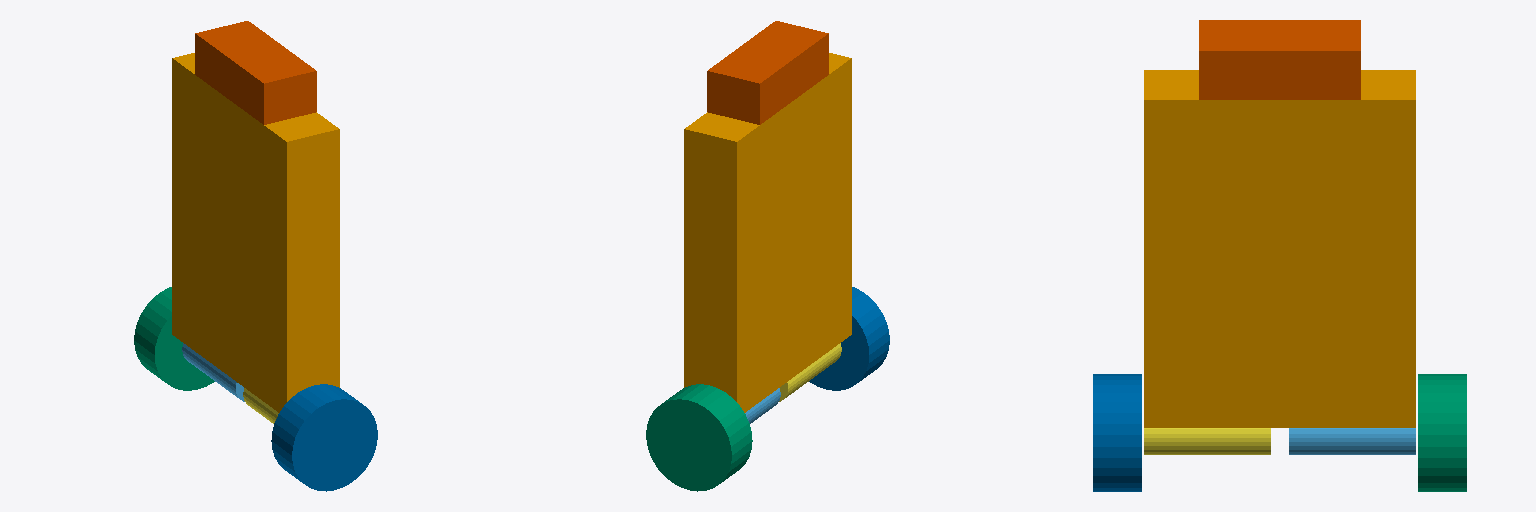
robot.urdf — balancing:
<?xml version="1.0" ?>
<!-- =================================================================================== -->
<!-- |    This document was autogenerated by xacro from robot_new.xacro                | -->
<!-- |    EDITING THIS FILE BY HAND IS NOT RECOMMENDED                                 | -->
<!-- =================================================================================== -->
<robot name="balancing">
  <link name="base_link">
    <inertial>
      <mass value="0.2"/>
      <origin xyz="0 0 0"/>
      <inertia ixx="0.0010416666666666667" ixy="0.0" ixz="0.0" iyy="0.0006933333333333335" iyz="0.0" izz="0.0004016666666666667"/>
    </inertial>
    <visual>
      <origin xyz="0 0 0"/>
      <geometry>
        <box size="0.04 0.15 0.2"/>
      </geometry>
    </visual>
	<collision>
      <origin xyz="0 0 0"/>
      <geometry>
        <box size="0.04 0.15 0.2"/>
		</geometry> 
	</collision>
  </link>
  <gazebo reference="base_link">
    <mu1>0.3</mu1>
    <mu2>0.3</mu2>
    <kp>10000</kp>
    <kd>10000</kd>
    <material>Gazebo/White</material>
  </gazebo>
  <joint name="motor_dx_joint" type="fixed">
    <origin rpy="0 0 0" xyz="0 0.04 -0.1125"/>
    <parent link="base_link"/>
    <child link="motor_dx_link"/>
  </joint>
  <link name="motor_dx_link">
    <inertial>
      <mass value="0.1"/>
      <origin rpy="1.57075 0 0" xyz="0 0 0"/>
      <inertia ixx="4.604166666666667e-05" ixy="0.0" ixz="0.0" iyy="4.604166666666667e-05" iyz="0.0" izz="7.812500000000002e-06"/>
    </inertial>
    <visual>
      <origin rpy="1.57075 0 0" xyz="0 0 0"/>
      <geometry>
        <cylinder length="0.07" radius="0.0125"/>
      </geometry>
    </visual>
    <collision>
      <origin rpy="1.57075 0 0" xyz="0 0 0"/>
      <geometry>
        <cylinder length="0.07" radius="0.0125"/>
      </geometry>
    </collision>
  </link>
  <gazebo reference="motor_dx_link">
    <mu1>0.7</mu1>
    <mu2>0.7</mu2>
    <kp>10000</kp>
    <kd>10000</kd>
    <material>Gazebo/Gray</material>
  </gazebo>
  <joint name="wheel_dx_joint" type="continuous">
    <origin rpy="0 0 0" xyz="0 0.05 0"/>
    <parent link="motor_dx_link"/>
    <child link="wheel_dx_link"/>
    <axis xyz="0 1 0"/>
  </joint>
  <link name="wheel_dx_link">
    <inertial>
      <mass value="0.05"/>
      <origin rpy="1.57075 0 0" xyz="0 0 0"/>
      <inertia ixx="2.0641666666666666e-05" ixy="0.0" ixz="0.0" iyy="2.0641666666666666e-05" iyz="0.0" izz="2.6406250000000005e-05"/>
    </inertial>
    <visual>
      <origin rpy="1.57075 0 0" xyz="0 0 0"/>
      <geometry>
        <cylinder length="0.027" radius="0.0325"/>
      </geometry>
    </visual>
    <collision>
      <origin rpy="1.57075 0 0" xyz="0 0 0"/>
      <geometry>
        <cylinder length="0.027" radius="0.0325"/>
      </geometry>
    </collision>
  </link>
  <gazebo reference="wheel_dx_link">
    <mu1>0.7</mu1>
    <mu2>0.7</mu2>
    <kp>10000</kp>
    <kd>10000</kd>
    <material>Gazebo/Black</material>
  </gazebo>
  <joint name="motor_sx_joint" type="fixed">
    <origin rpy="0 0 0" xyz="0 -0.04 -0.1125"/>
    <parent link="base_link"/>
    <child link="motor_sx_link"/>
  </joint>
  <link name="motor_sx_link">
    <inertial>
      <mass value="0.1"/>
      <origin rpy="1.57075 0 0" xyz="0 0 0"/>
      <inertia ixx="4.604166666666667e-05" ixy="0.0" ixz="0.0" iyy="4.604166666666667e-05" iyz="0.0" izz="7.812500000000002e-06"/>
    </inertial>
    <visual>
      <origin rpy="1.57075 0 0" xyz="0 0 0"/>
      <geometry>
        <cylinder length="0.07" radius="0.0125"/>
      </geometry>
    </visual>
    <collision>
      <origin rpy="1.57075 0 0" xyz="0 0 0"/>
      <geometry>
        <cylinder length="0.07" radius="0.0125"/>
      </geometry>
    </collision>
  </link>
  <gazebo reference="motor_sx_link">
    <mu1>0.7</mu1>
    <mu2>0.7</mu2>
    <kp>10000</kp>
    <kd>10000</kd>
    <material>Gazebo/Gray</material>
  </gazebo>
  <joint name="wheel_sx_joint" type="continuous">
    <origin rpy="0 0 0" xyz="0 -0.05 0"/>
    <parent link="motor_sx_link"/>
    <child link="wheel_sx_link"/>
    <axis xyz="0 1 0"/>
  </joint>
  <link name="wheel_sx_link">
    <inertial>
      <mass value="0.05"/>
      <origin rpy="1.57075 0 0" xyz="0 0 0"/>
      <inertia ixx="2.0641666666666666e-05" ixy="0.0" ixz="0.0" iyy="2.0641666666666666e-05" iyz="0.0" izz="2.6406250000000005e-05"/>
    </inertial>
    <visual>
      <origin rpy="1.57075 0 0" xyz="0 0 0"/>
      <geometry>
        <cylinder length="0.027" radius="0.0325"/>
      </geometry>
    </visual>
    <collision>
      <origin rpy="1.57075 0 0" xyz="0 0 0"/>
      <geometry>
        <cylinder length="0.027" radius="0.0325"/>
      </geometry>
    </collision>
  </link>
  <gazebo reference="wheel_sx_link">
    <mu1>0.7</mu1>
    <mu2>0.7</mu2>
    <kp>10000</kp>
    <kd>10000</kd>
    <material>Gazebo/Black</material>
  </gazebo>
  <link name="battery_link">
    <inertial>
      <mass value="0.15"/>
      <origin xyz="0 0 0.0"/>
      <inertia ixx="0.00011249999999999998" ixy="0.0" ixz="0.0" iyy="3.125e-05" iyz="0.0" izz="0.00012124999999999999"/>
    </inertial>
    <visual>
      <origin xyz="0 0 0"/>
      <geometry>
        <box size="0.04 0.09 0.03"/>
      </geometry>
    </visual>
    <collision>
      <origin xyz="0 0 0"/>
      <geometry>
        <box size="0.04 0.09 0.03"/>
      </geometry>
    </collision>
  </link>
  <gazebo reference="battery_link">
    <mu1>0.3</mu1>
    <mu2>0.3</mu2>
    <kp>10000</kp>
    <kd>10000</kd>
    <material>Gazebo/Green</material>
  </gazebo>
  <joint name="battery_joint" type="fixed">
    <origin rpy="0 0 0" xyz="0 0 0.115"/>
    <parent link="base_link"/>
    <child link="battery_link"/>
  </joint>
  <!--  SENSORS -->
  
  <!-- DIFFERENTIAL DRIVE -->
  
  <gazebo>
    <plugin filename="libgazebo_ros_diff_drive.so" name="differential_drive_controller">
      <legacyMode>false</legacyMode>
	    <alwaysOn>true</alwaysOn>
	    <max_velocity>10</max_velocity>
      <updateRate>200</updateRate>
      <leftJoint>wheel_dx_joint</leftJoint>
      <rightJoint>wheel_sx_joint</rightJoint>
      <wheelSeparation>0.2</wheelSeparation>
      <wheelDiameter>0.065</wheelDiameter>
      <torque>20</torque>
      <commandTopic>self_balancing_robot/cmd_vel</commandTopic>
      <odometryTopic>odom</odometryTopic>
      <odometryFrame>odom</odometryFrame>
      <odometrySource>2</odometrySource>
      <publishTf>false</publishTf>
      <param name="odometrySource" type="int" value="2"/>
      <robotBaseFrame>base_link</robotBaseFrame>
      <wheelTorque>4</wheelTorque>
      <wheelAcceleration>4</wheelAcceleration>
      <publishWheelJointState>true</publishWheelJointState>
      <publishOdomTF>true</publishOdomTF>
      <publishWheelTF>true</publishWheelTF>
      <rosDebugLevel>debug</rosDebugLevel>
    </plugin>
  </gazebo>

  <gazebo>
    <plugin name="p3d_base_controller" filename="libgazebo_ros_p3d.so">
      <alwaysOn>true</alwaysOn>
      <updateRate>200.0</updateRate>
      <bodyName>base_link</bodyName>
      <topicName>self_balancing_robot/ground_truth/state</topicName>
      <gaussianNoise>0.00</gaussianNoise>
      <frameName>world</frameName>
      <xyzOffsets>0 0 0</xyzOffsets>
      <rpyOffsets>0 0 0</rpyOffsets>
    </plugin>
  </gazebo>

</robot>

--- Render facts (derived) ---
3 views of the same robot in one strip: view 1: azimuth 30°, elevation 25°; view 2: azimuth 150°, elevation 25°; view 3: azimuth 270°, elevation 25° (orthographic).
Robot: balancing — 6 links, 5 joints (2 continuous, 3 fixed); root link base_link; default pose: all joints at 0.
Links seen in each view (by area): view 1: base_link, battery_link, wheel_sx_link, wheel_dx_link, motor_dx_link; view 2: base_link, battery_link, wheel_dx_link, wheel_sx_link, motor_sx_link; view 3: base_link, battery_link, wheel_dx_link, wheel_sx_link, motor_dx_link, motor_sx_link.
Boxes of the visible links, bbox=[...] form: base_link: bbox=[172, 53, 339, 412]; battery_link: bbox=[195, 21, 316, 124]; wheel_sx_link: bbox=[271, 384, 377, 491]; wheel_dx_link: bbox=[134, 287, 214, 390]; motor_dx_link: bbox=[182, 343, 244, 401]; base_link: bbox=[684, 53, 851, 412]; battery_link: bbox=[707, 21, 828, 124]; wheel_dx_link: bbox=[646, 384, 752, 491]; wheel_sx_link: bbox=[809, 287, 889, 390]; motor_sx_link: bbox=[779, 343, 841, 401]; base_link: bbox=[1144, 70, 1415, 427]; battery_link: bbox=[1199, 20, 1360, 99]; wheel_dx_link: bbox=[1418, 374, 1466, 491]; wheel_sx_link: bbox=[1093, 374, 1141, 491]; motor_dx_link: bbox=[1289, 428, 1415, 454]; motor_sx_link: bbox=[1144, 428, 1270, 454].
Bounding box of the posed robot: 0.065 × 0.207 × 0.275 m (x, y, z).
Geometry: primitives only (box / cylinder / sphere), no mesh files.